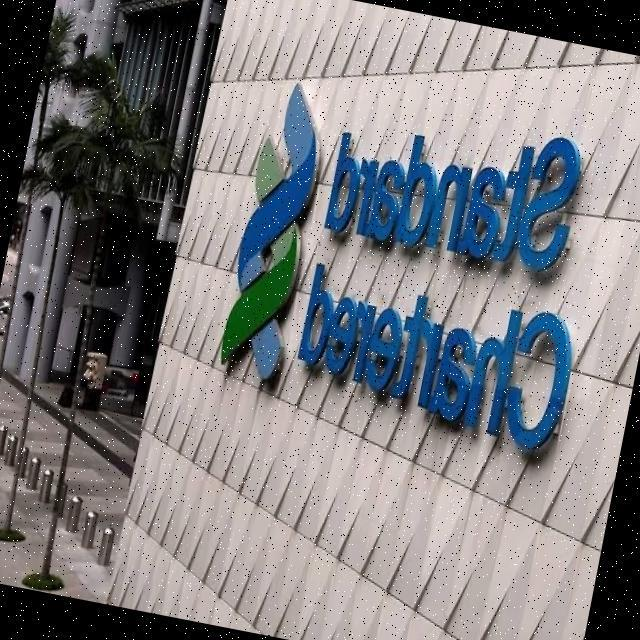Standard Chartered: (208, 69, 621, 448)
